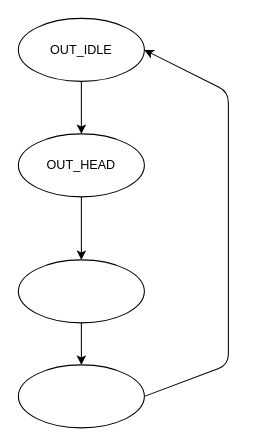
Some shapes in this 255 by 446 pixel diagram are drawn without their labels. The shapes that lost their labels are listed below. From the top down, each one's centre as x and y in pixels, then its label:
At (80,291): "OUT_TIME".
At (80,396): "OUT_BODY".
